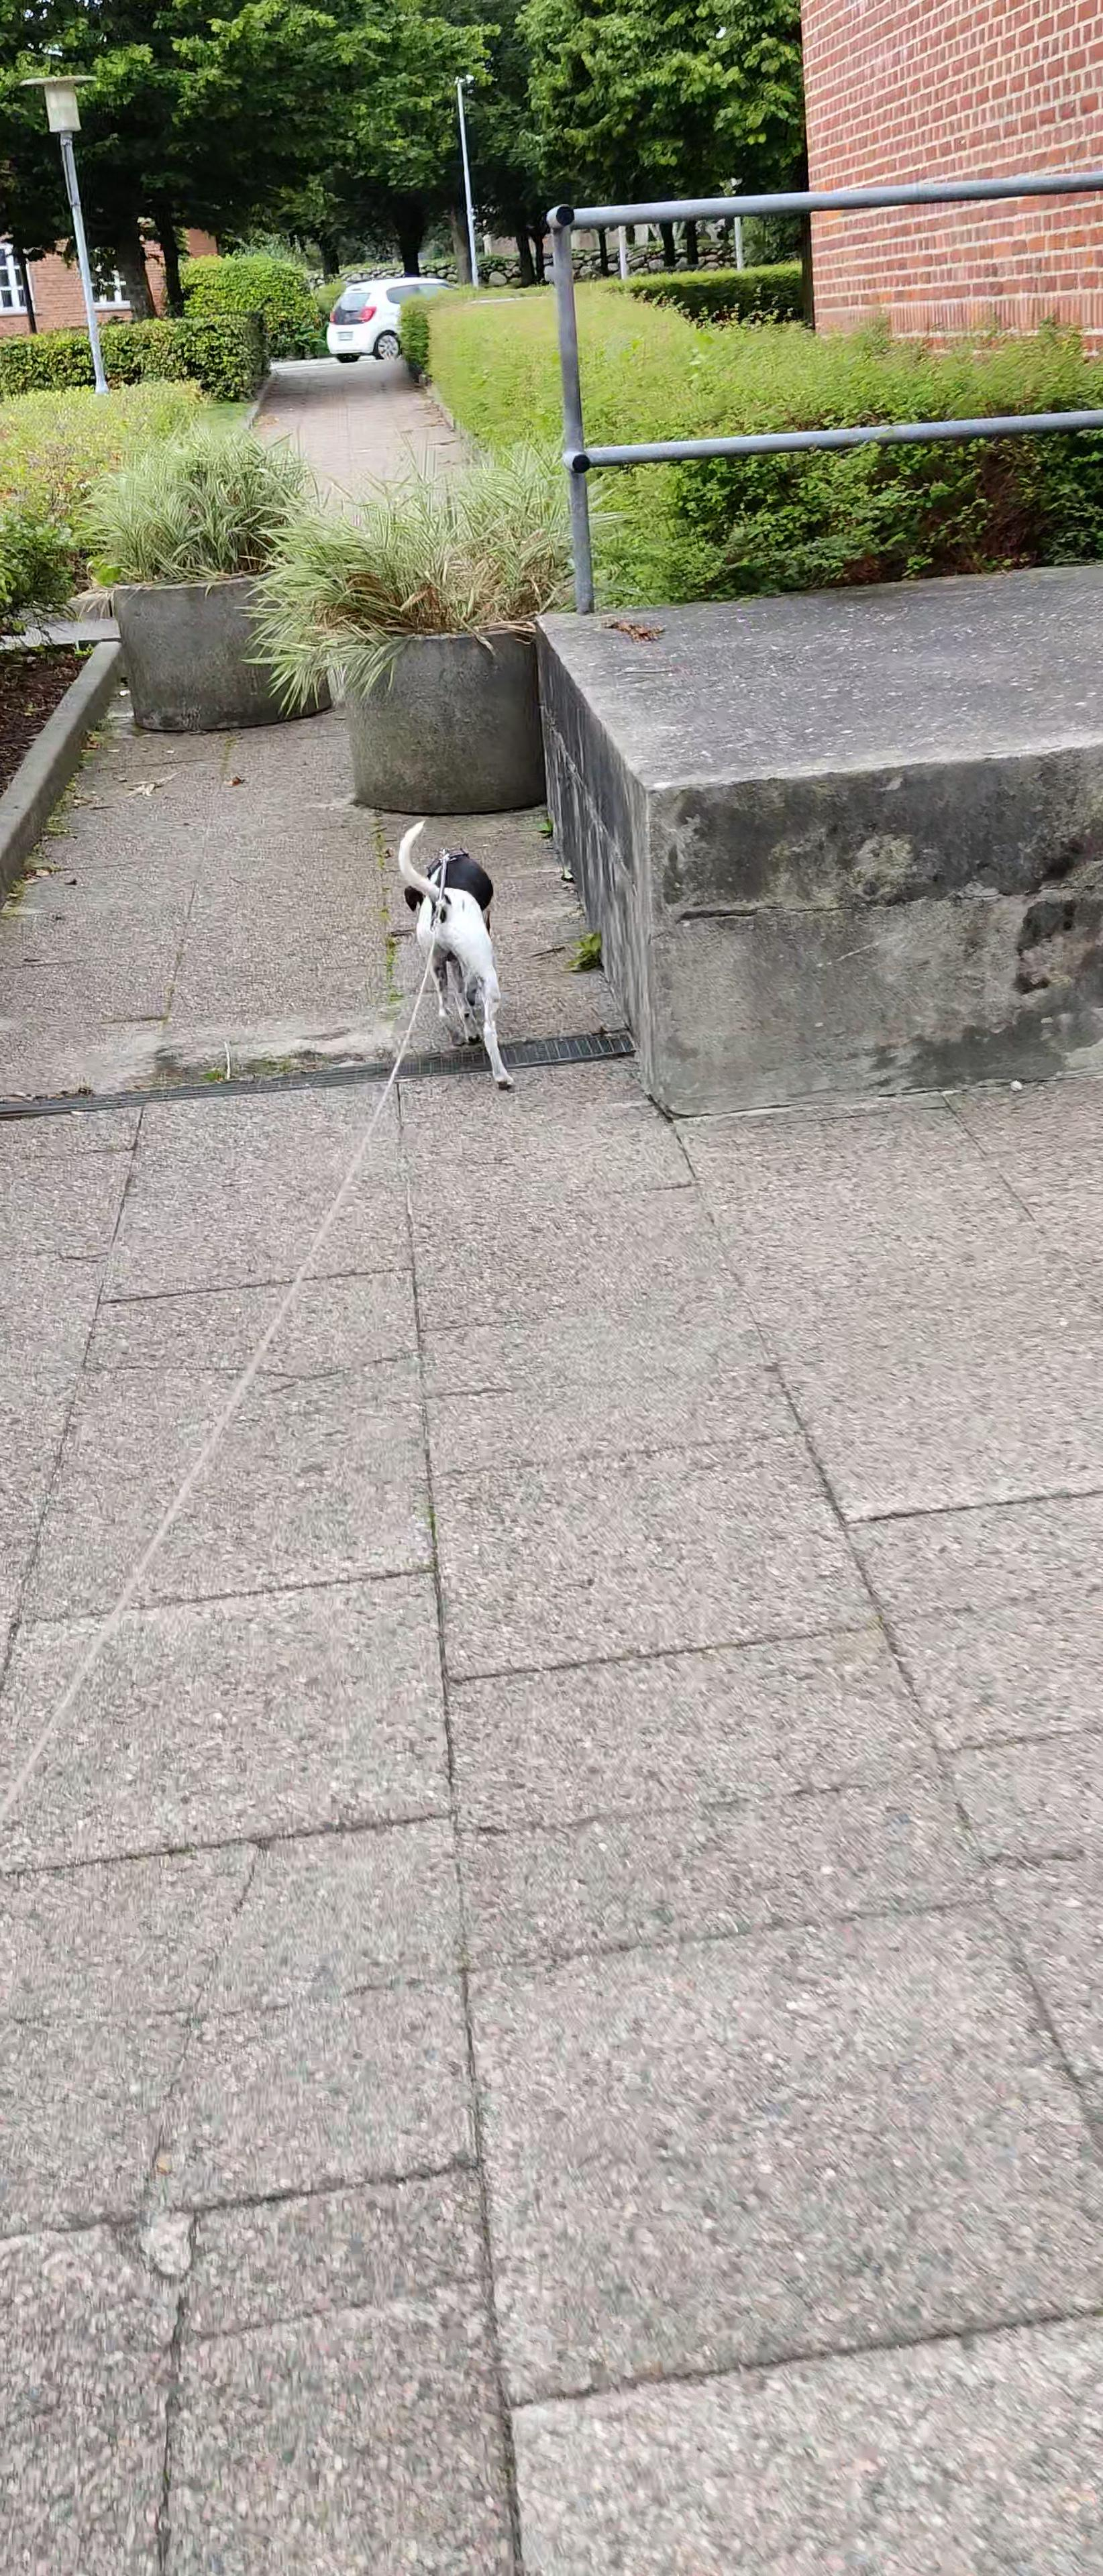Dog: (396, 816, 516, 1091)
